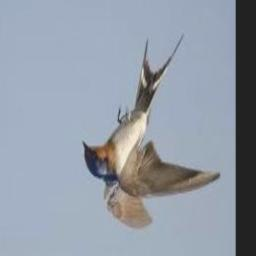Swallow: (83, 32, 221, 230)
